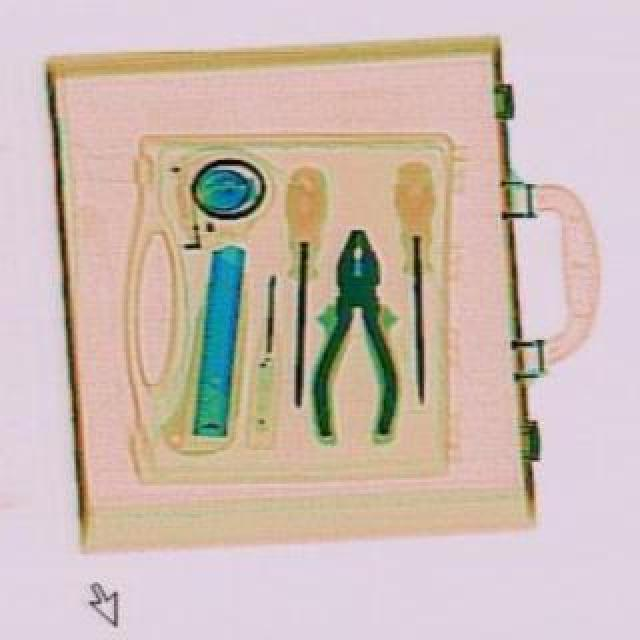wrench: (316, 232, 404, 440)
